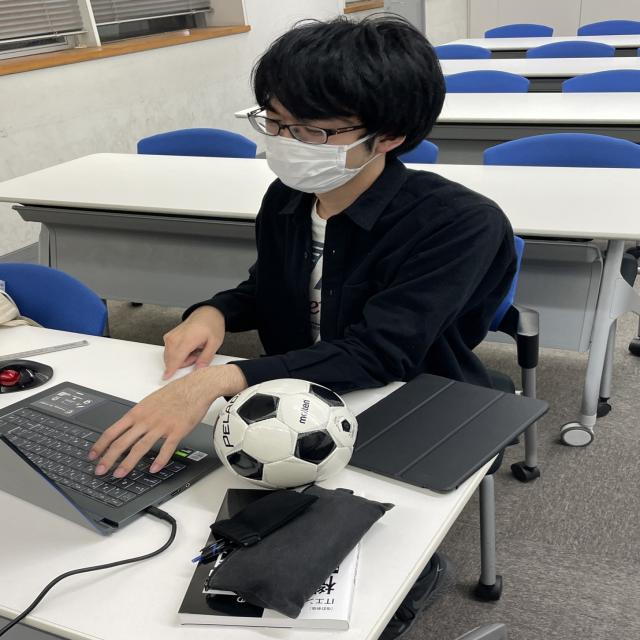ball: (214, 376, 360, 490), (219, 376, 364, 490)
